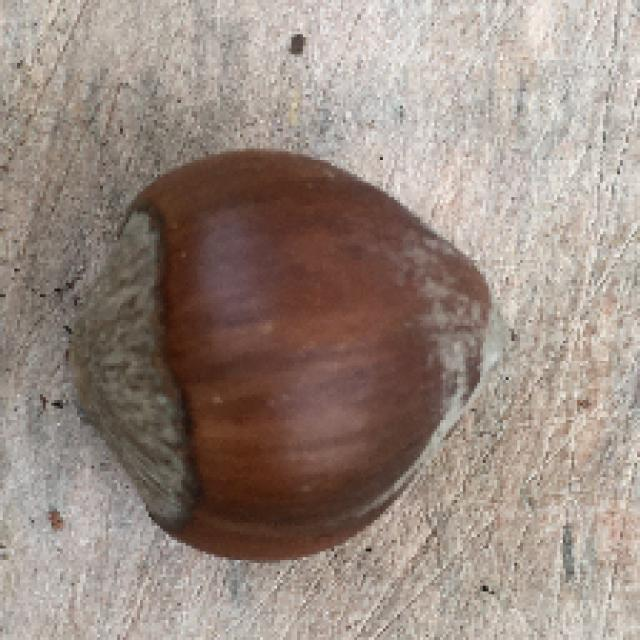damagedHazelnut: (68, 138, 527, 569)
